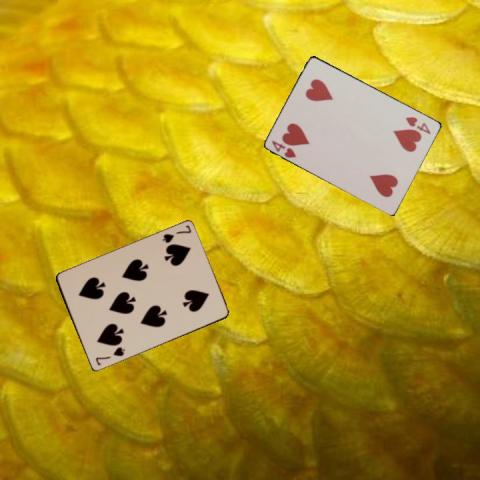4h: (402, 114, 432, 136), (269, 138, 298, 160)
7s: (92, 344, 126, 367), (159, 222, 193, 244)
